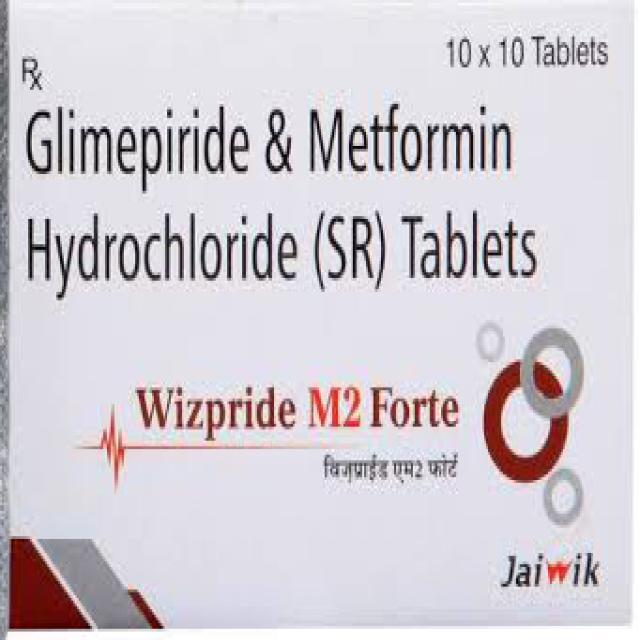drug-name: (130, 382, 465, 437)
